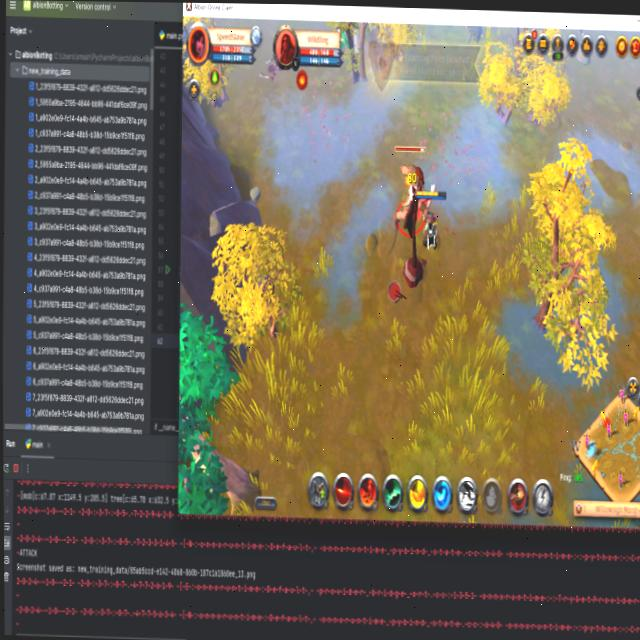hide: (332, 25, 352, 56)
ore: (391, 135, 435, 251), (463, 21, 489, 50)
red: (413, 188, 448, 259)
wisp caged: (177, 304, 268, 517)
